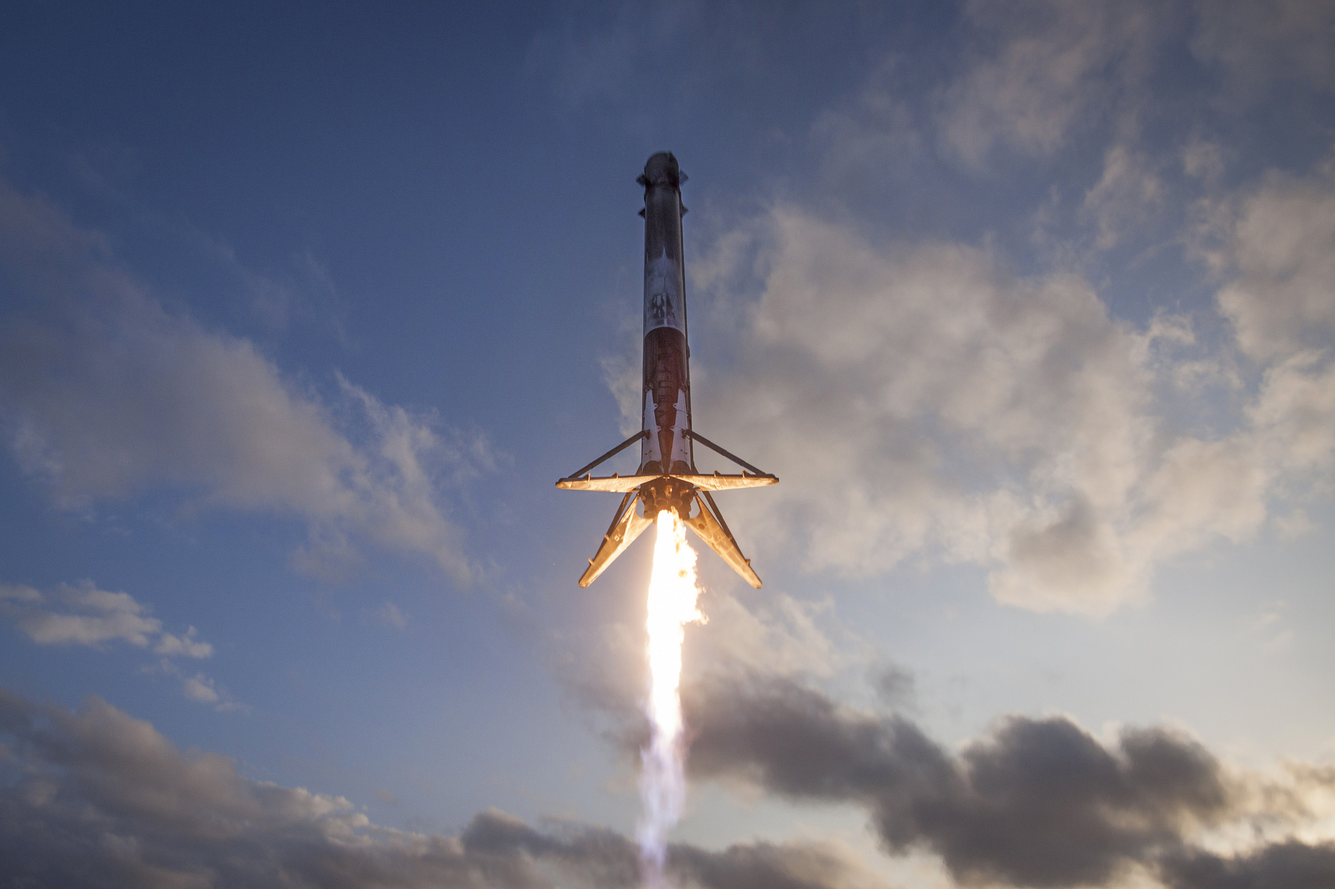falcon: (552, 142, 781, 599)
